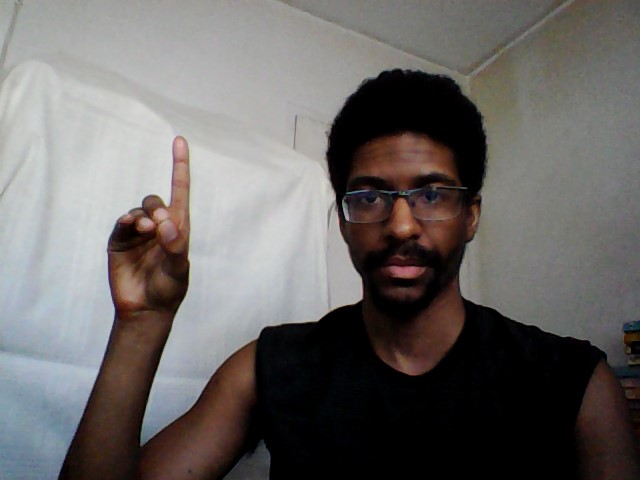d: (101, 131, 198, 323)
